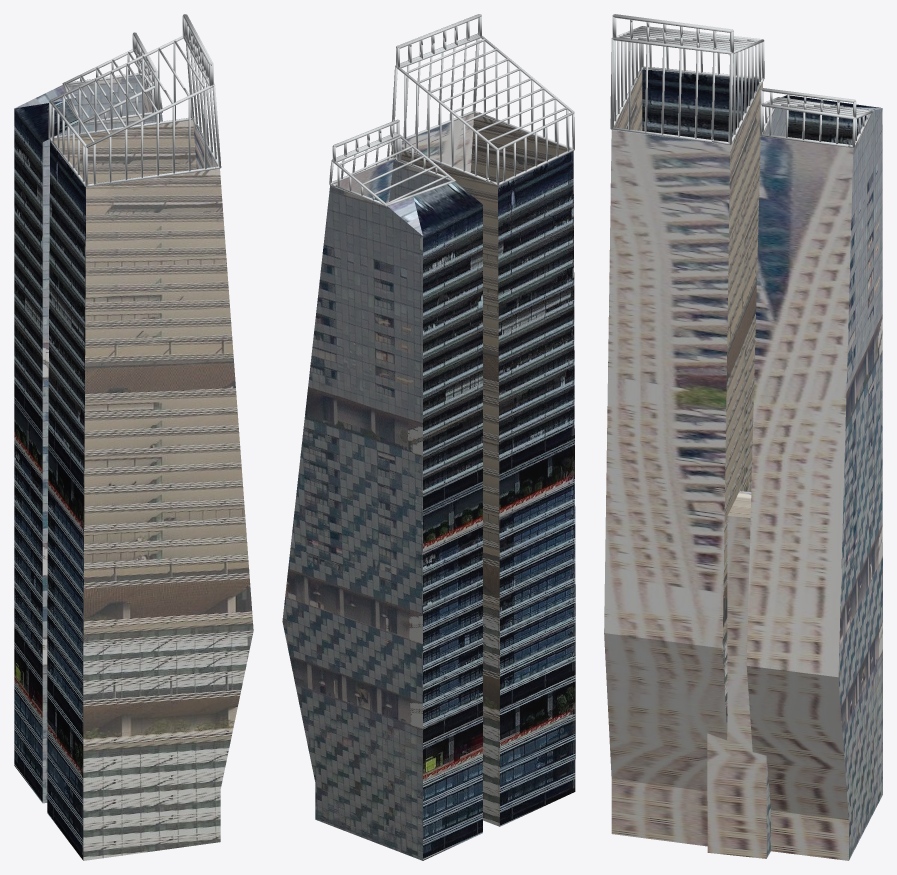
The picture shows the model from 3 angles, left to right: view 1: azimuth 30°, elevation 25°; view 2: azimuth 150°, elevation 25°; view 3: azimuth 270°, elevation 25°; orthographic projection. The views are drawn at different scales.
Parts seen in each view (by area): view 1: geometry_0, geometry_1; view 2: geometry_0, geometry_1; view 3: geometry_0, geometry_1.
Boxes of the visible parts, bbox=[...] form: geometry_0: bbox=[14, 75, 253, 860]; geometry_1: bbox=[48, 14, 221, 187]; geometry_0: bbox=[282, 113, 575, 860]; geometry_1: bbox=[329, 14, 574, 206]; geometry_0: bbox=[604, 69, 882, 860]; geometry_1: bbox=[610, 14, 872, 147].
Size of the model in its own units: 63.21 by 219 by 68.
Materials: 2 (1 with a texture image).
